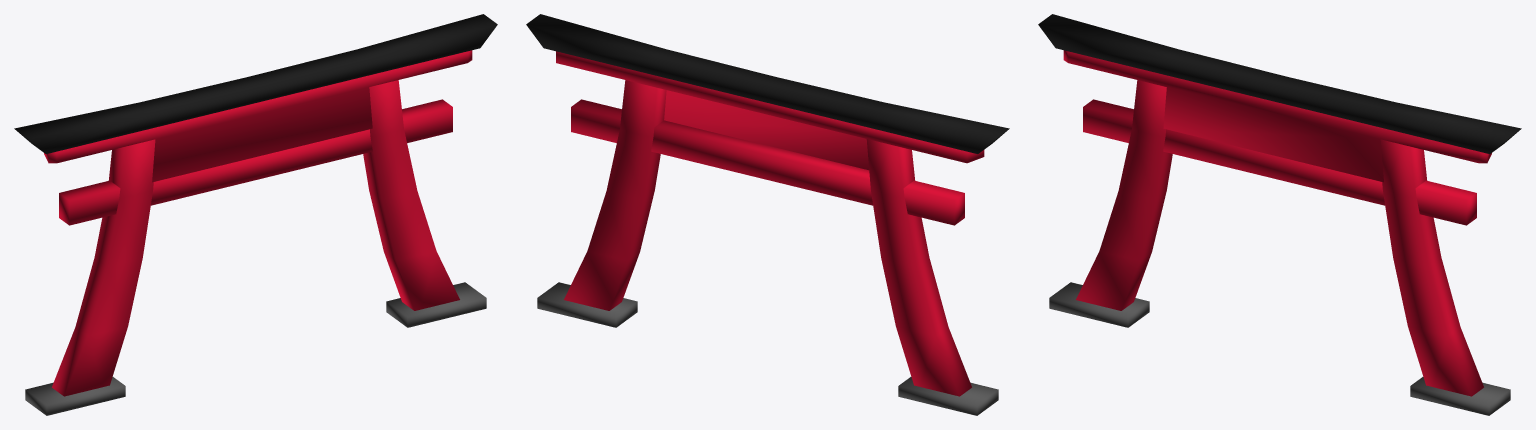
File: diceStorage.obj
The picture shows the model from 3 angles, left to right: view 1: azimuth 30°, elevation 25°; view 2: azimuth 150°, elevation 25°; view 3: azimuth 330°, elevation 25°; orthographic projection.
Parts seen in each view (by area): view 1: Cube.001; view 2: Cube.001; view 3: Cube.001.
Boxes of the visible parts, x1,y1,x2,y2 form: Cube.001: (14,14,497,415); Cube.001: (526,14,1009,415); Cube.001: (1038,14,1521,415).
Bounding box in the file's own units: 10.21 × 5.77 × 0.8093.
1 material, 1 textured.
